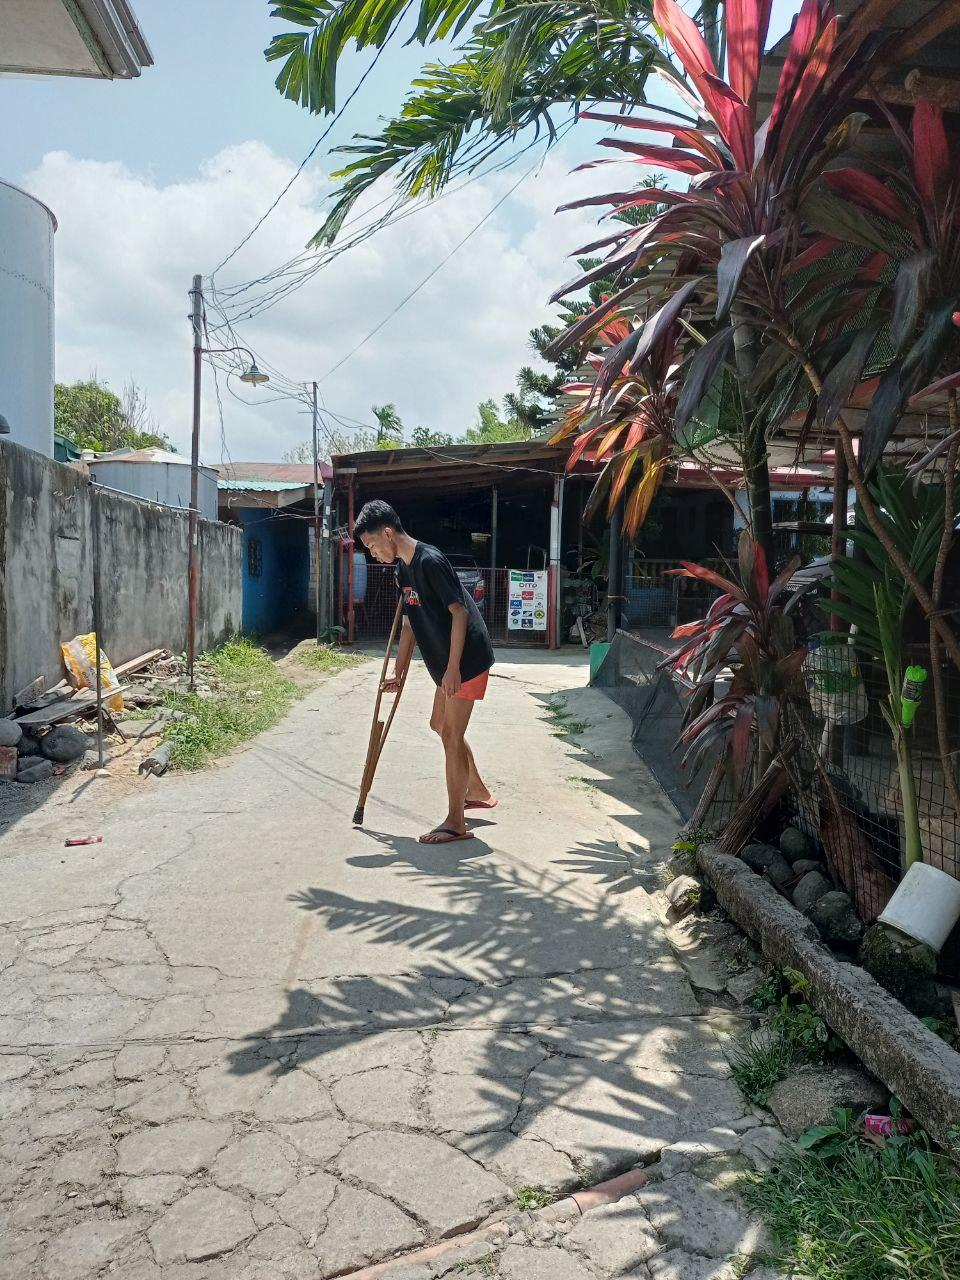crutches: (346, 493, 503, 851)
